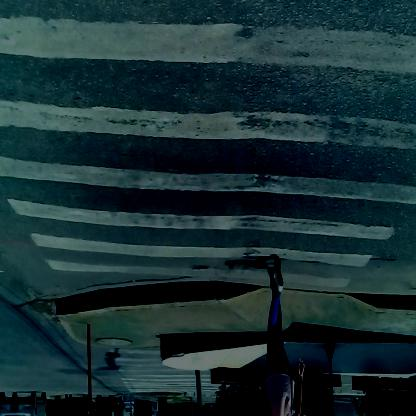crosswalk: (8, 25, 415, 284)
sidewalk: (56, 283, 416, 351)
